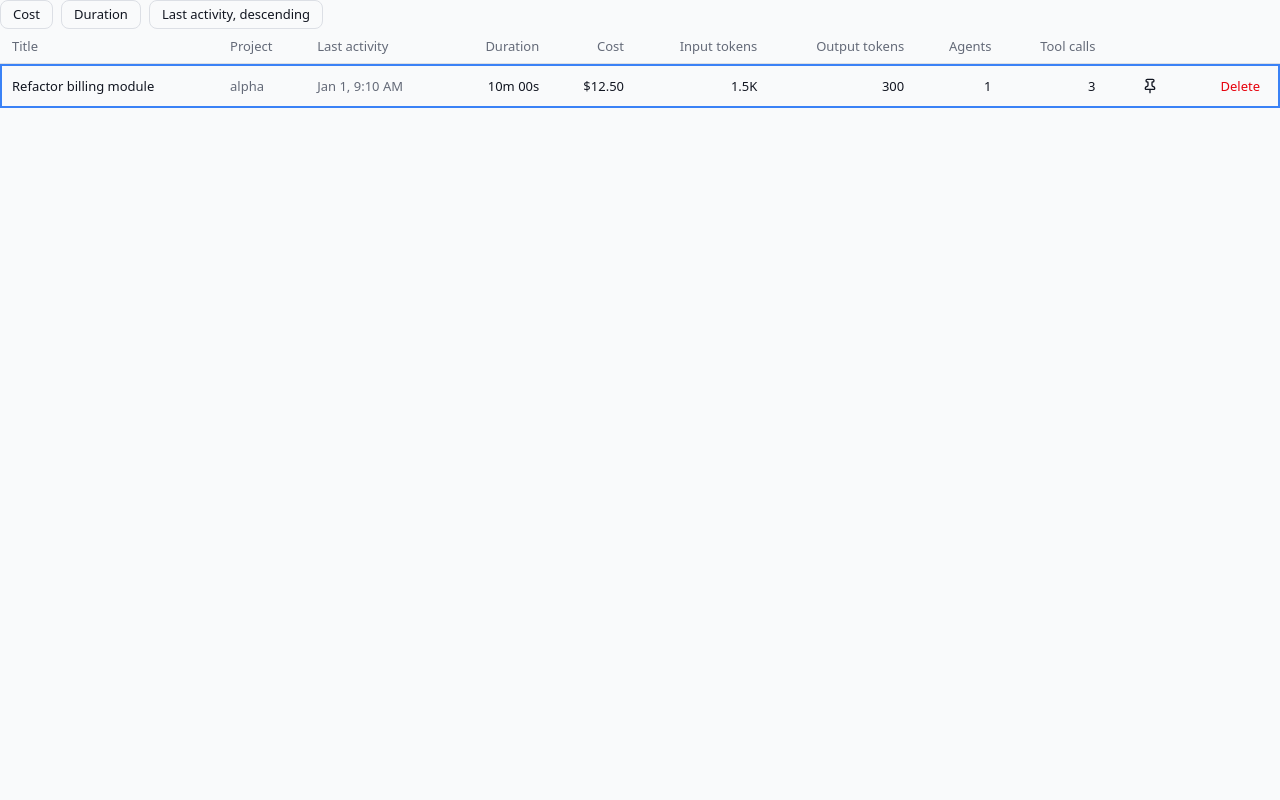
Test: session deletion › does not offer a retry when the server rejected the request outright (E3-S5-AC5)
The width and height of the screenshot is (1280, 800).
What coordinates should you click on to do the following:
click the button "Delete"
I would click on:
 (1240, 86)
Its box is x1=1212 y1=73 x2=1268 y2=99.
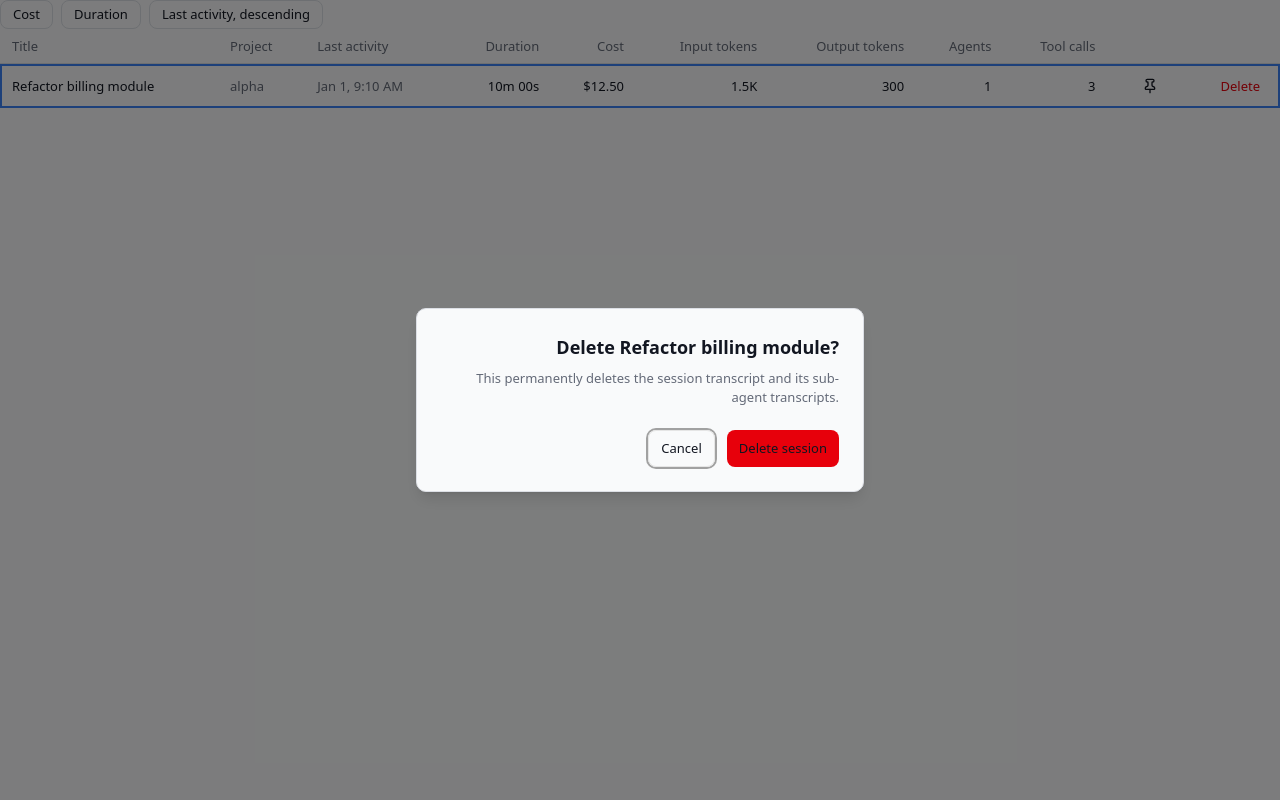
What coordinates should you click on to do the following:
click the button "Delete session"
I would click on:
 (783, 449)
Its box is x1=727 y1=430 x2=839 y2=467.
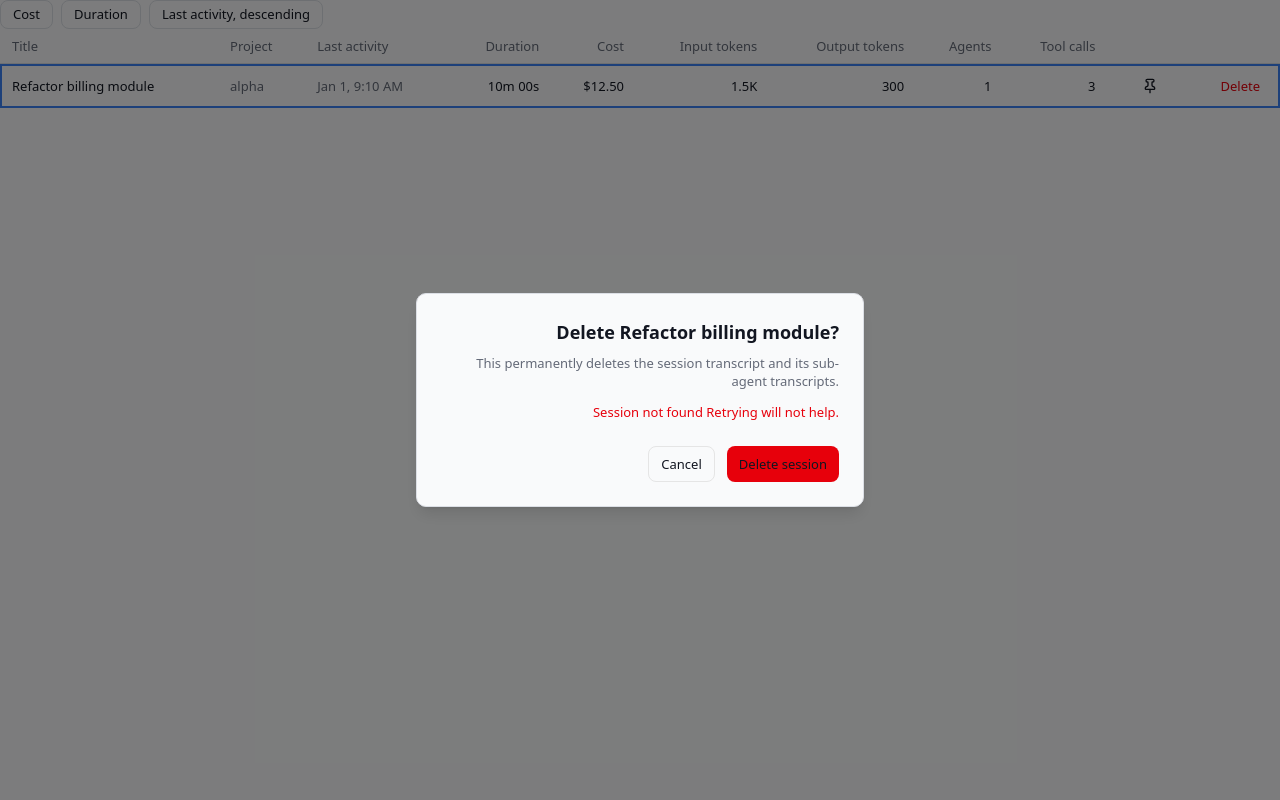
Expected: the text "Refactor billing module" is shown, x1=0 y1=64 x2=218 y2=108
Now the message shows "Session not found", box x1=593 y1=403 x2=703 y2=421
Now the message shows "Retrying will not help.", box x1=706 y1=403 x2=839 y2=421
